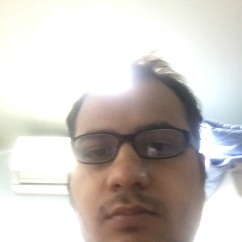glasses: (68, 130, 193, 160)
